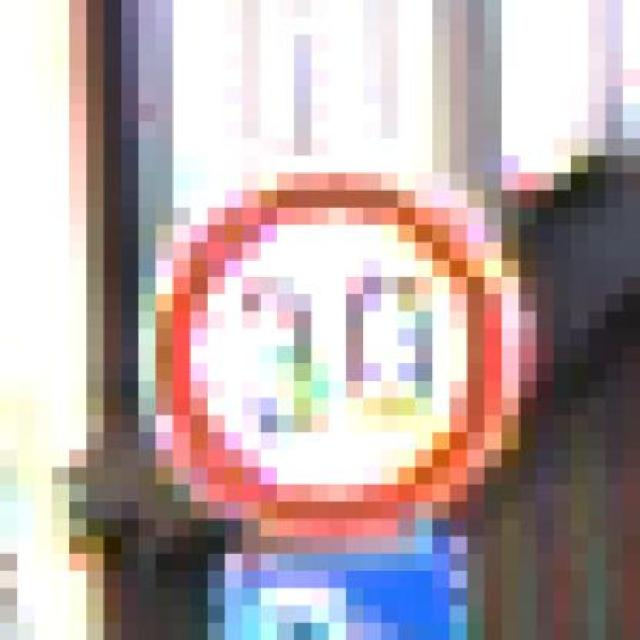Speed Limit 30 KMPh: (86, 138, 554, 554)
